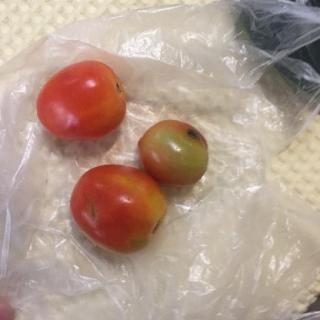Tomat: (54, 159, 176, 252), (32, 55, 133, 143), (126, 115, 221, 191)
